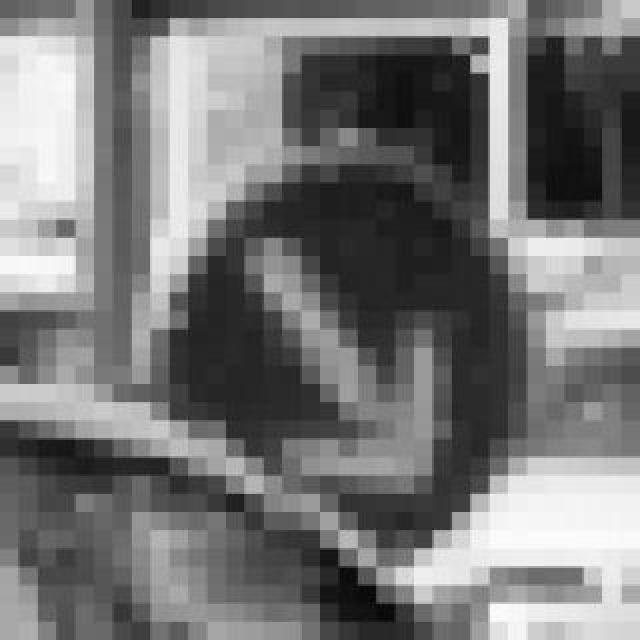keep right: (114, 128, 528, 548)
